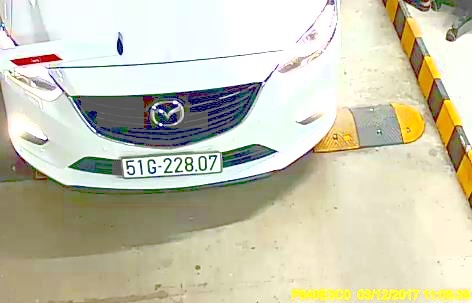plate: (119, 147, 225, 180)
